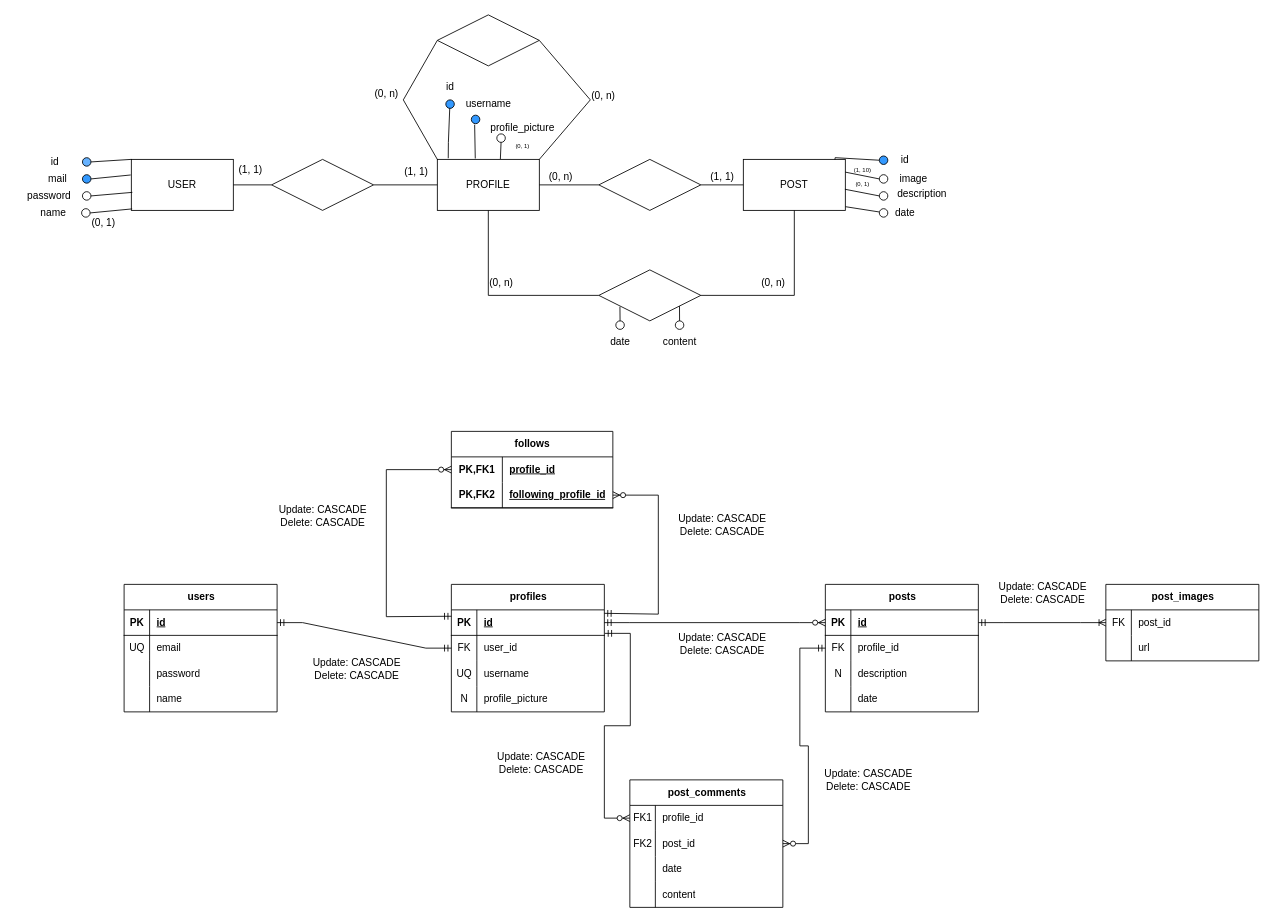
Image size: 1274x922. Some labels were removed from this diagram. The centre of each missing label's shape, as x and y in pixels:
follow: point (487, 40)
has: point (322, 184)
post comment: point (649, 295)
upload: point (649, 184)
